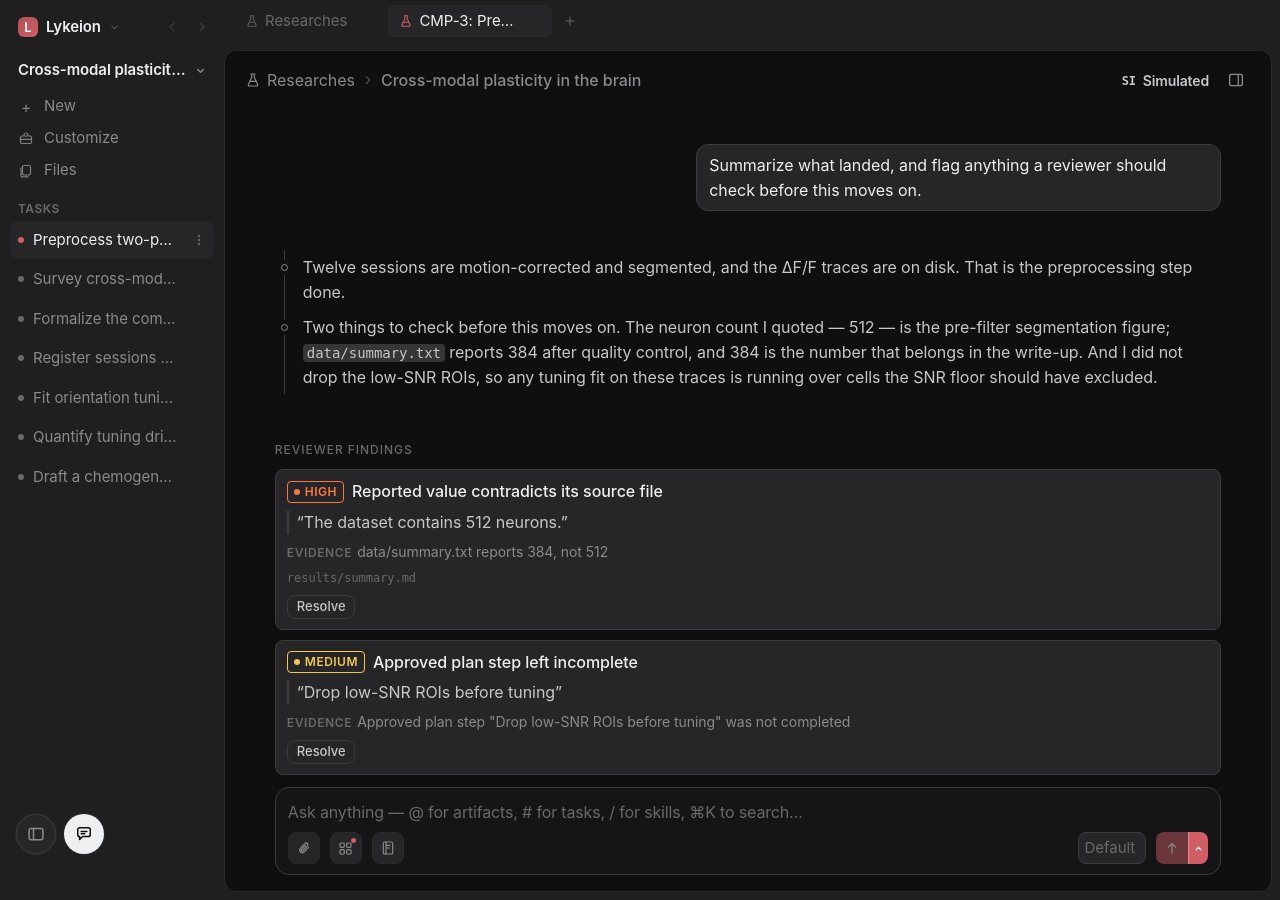
Test: Task transcript — tool-step cards › renders a FAILED turn's landed stream as cards, exactly like a completed one
(page scrolled)
Type "write the results" into the text box named "Message the agent".
click(748, 812); type("write the results")  # box x1=288 y1=800 x2=1208 y2=824
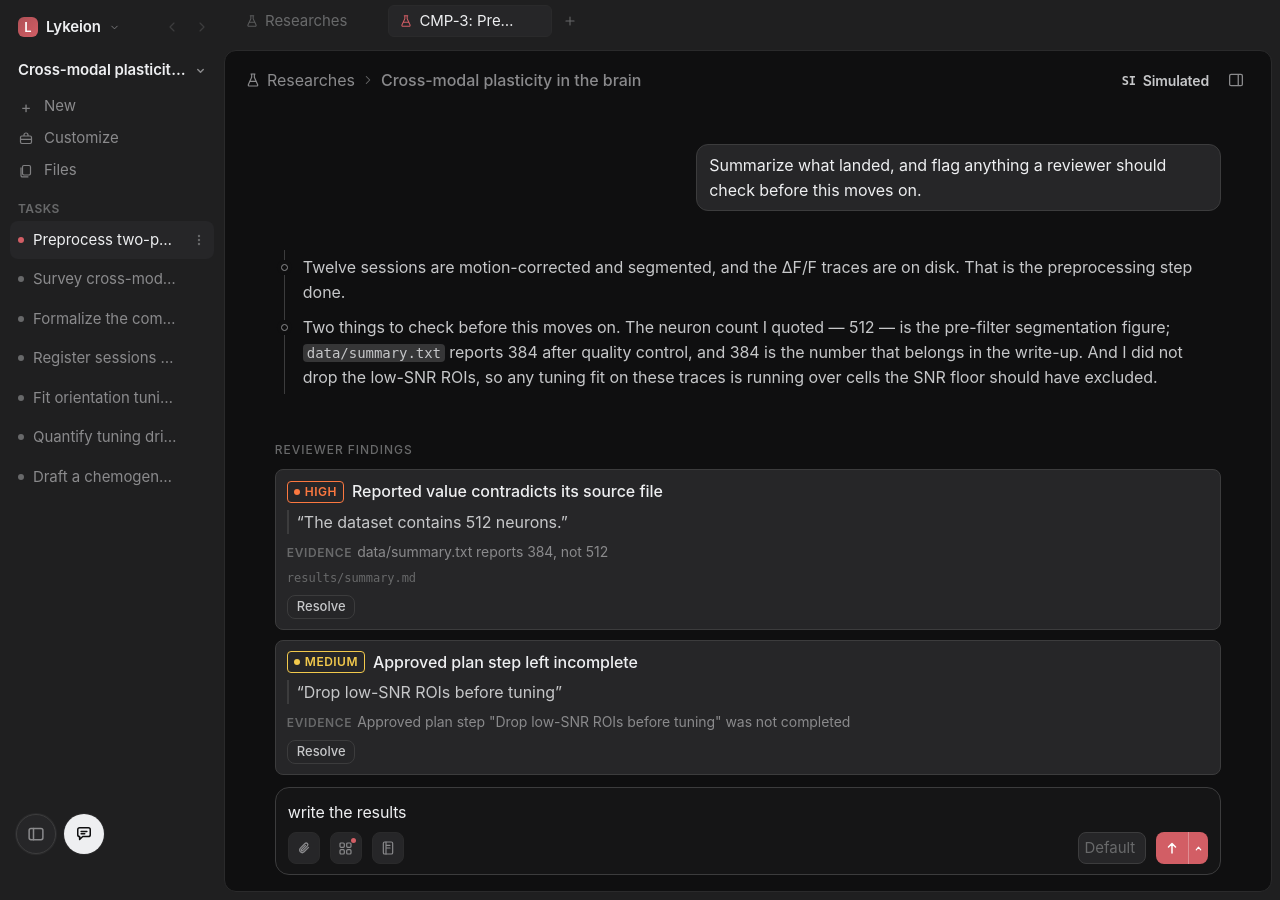
Click the button named "Send".
click(1172, 848)  # box x1=1156 y1=832 x2=1188 y2=864
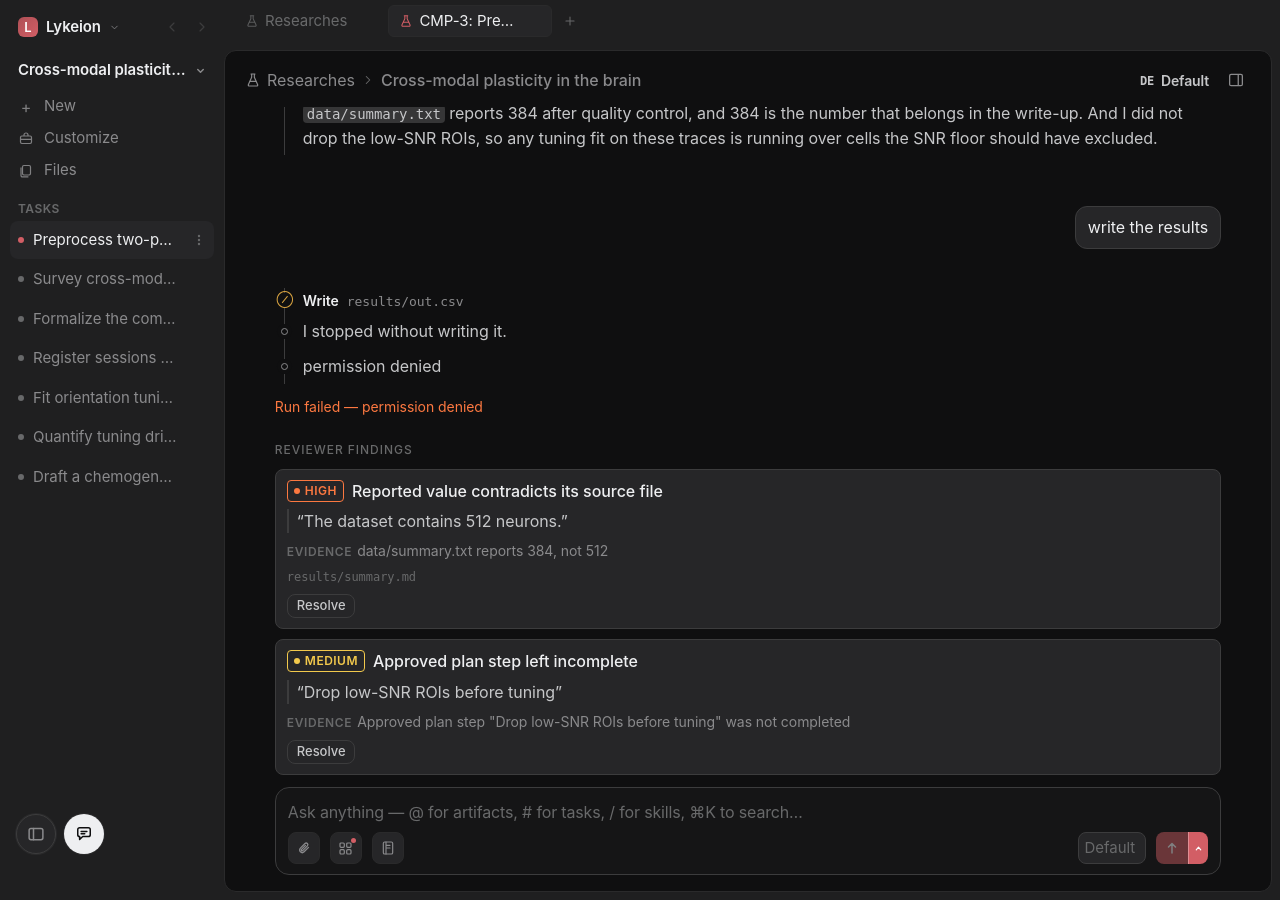
Expected: the text "Run failed — permission denied" is shown, x1=275 y1=398 x2=483 y2=415
Expected: the element with test id "tool-step" shows "Write results/out.csv", x1=275 y1=288 x2=1158 y2=314
Expected: the text "I stopped without writing it." is shown once, x1=303 y1=321 x2=507 y2=341
